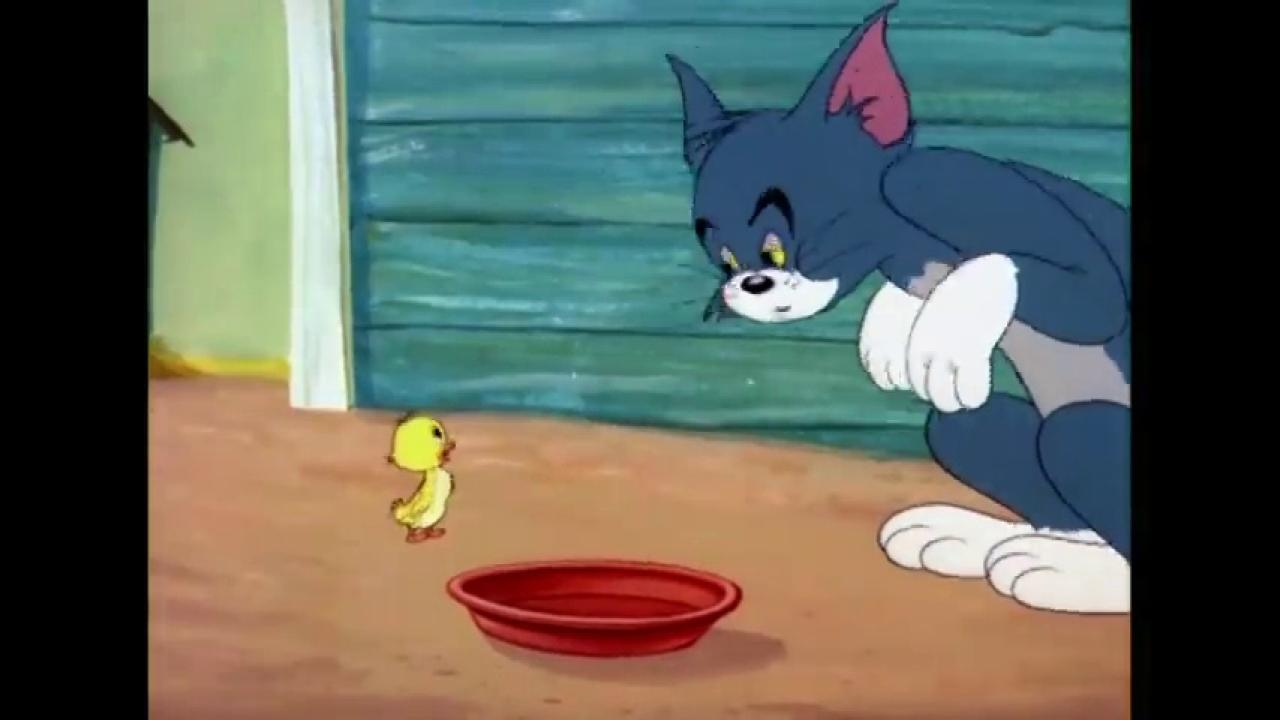Tom: (663, 0, 1130, 612)
